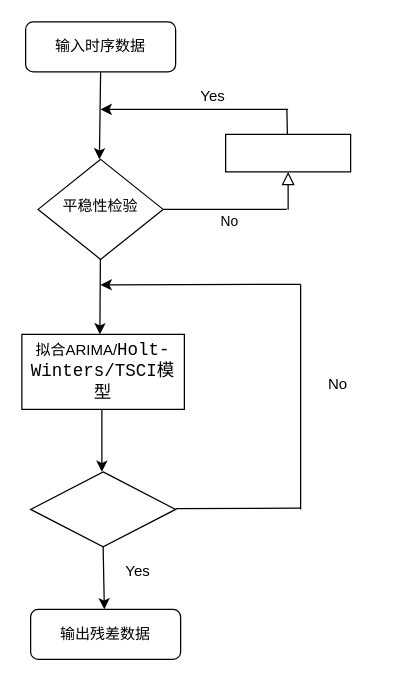
The diagram is 411 pixels wide and 681 high, and some of its shapes have lost their labels. The shapes that lost their labels are listed below. From the top down, each one's centre as x and y in pixels, then its label:
At (x=287, y=152): "差分/log转换等".
At (x=102, y=509): "白噪声检验".
